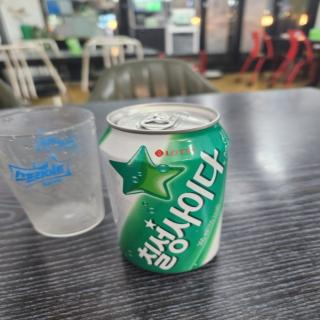chilsung: (97, 102, 230, 272)
